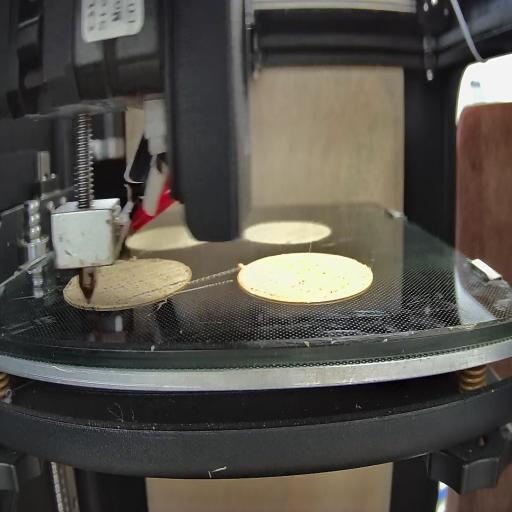under_extrusion: (103, 267, 187, 306), (292, 262, 362, 300), (246, 276, 278, 308)
